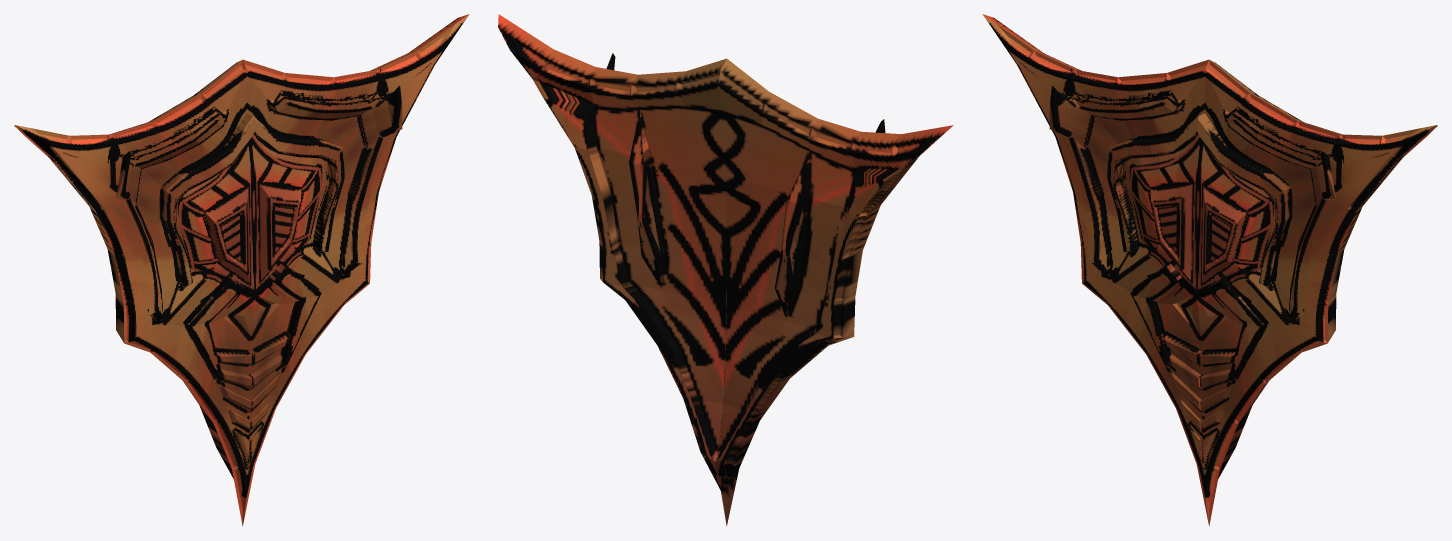
The model's file is FireShield.glb.
The picture shows the model from 3 angles, left to right: view 1: azimuth 30°, elevation 25°; view 2: azimuth 150°, elevation 25°; view 3: azimuth 330°, elevation 25°; orthographic projection.
Parts seen in each view (by area): view 1: Plane; view 2: Plane; view 3: Plane.
Boxes of the visible parts, left/top/right/bottom form: Plane: left=14, top=14, right=469, bottom=526; Plane: left=498, top=14, right=953, bottom=526; Plane: left=982, top=14, right=1437, bottom=526.
Bounding box in the file's own units: 2.32 × 2.28 × 0.3218.
Materials: 1 (1 with a texture image).
